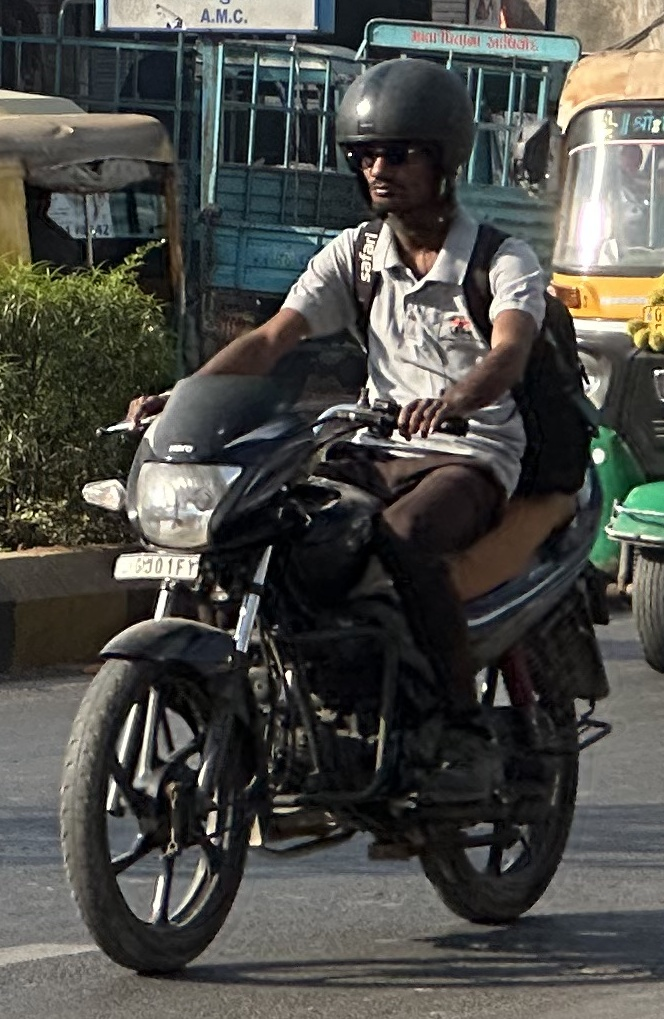BikeWithRider: (41, 38, 645, 986)
Helmet: (316, 55, 508, 223)
